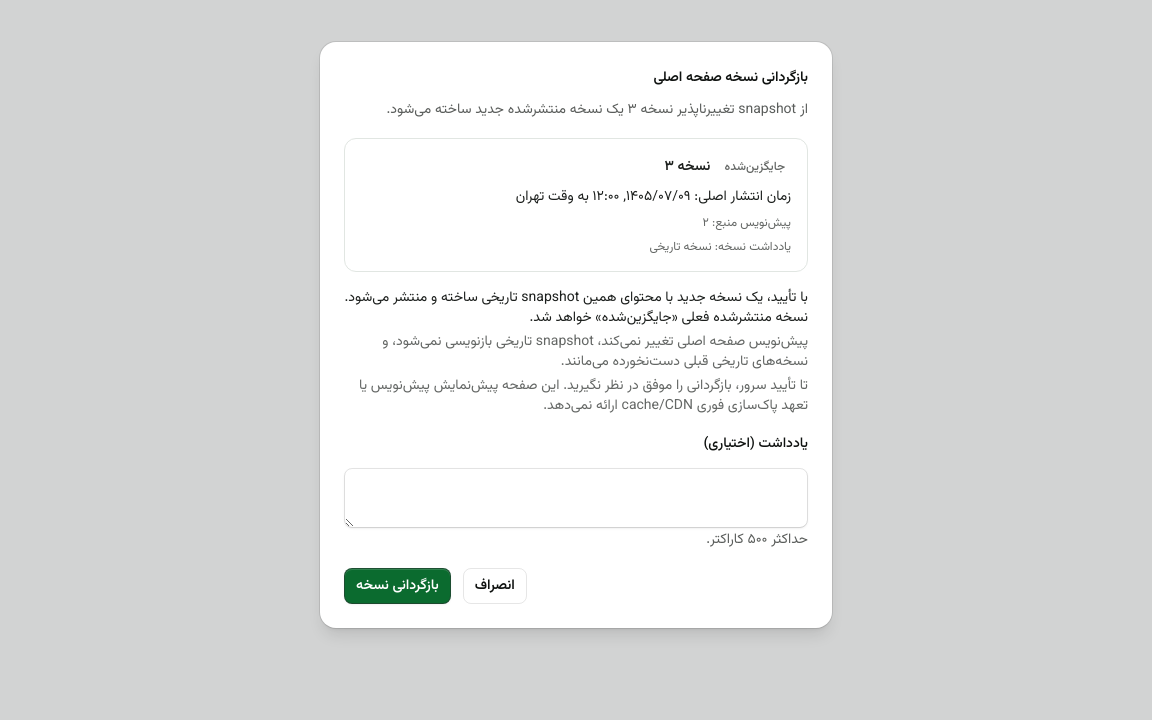
Test: HomepagePublicationRollbackDialog (SS-281) › shows ambiguous failures without retrying or refreshing falsely
Click the button "بازگردانی نسخه": (397, 586) [344,568,451,604]
(page scrolled)
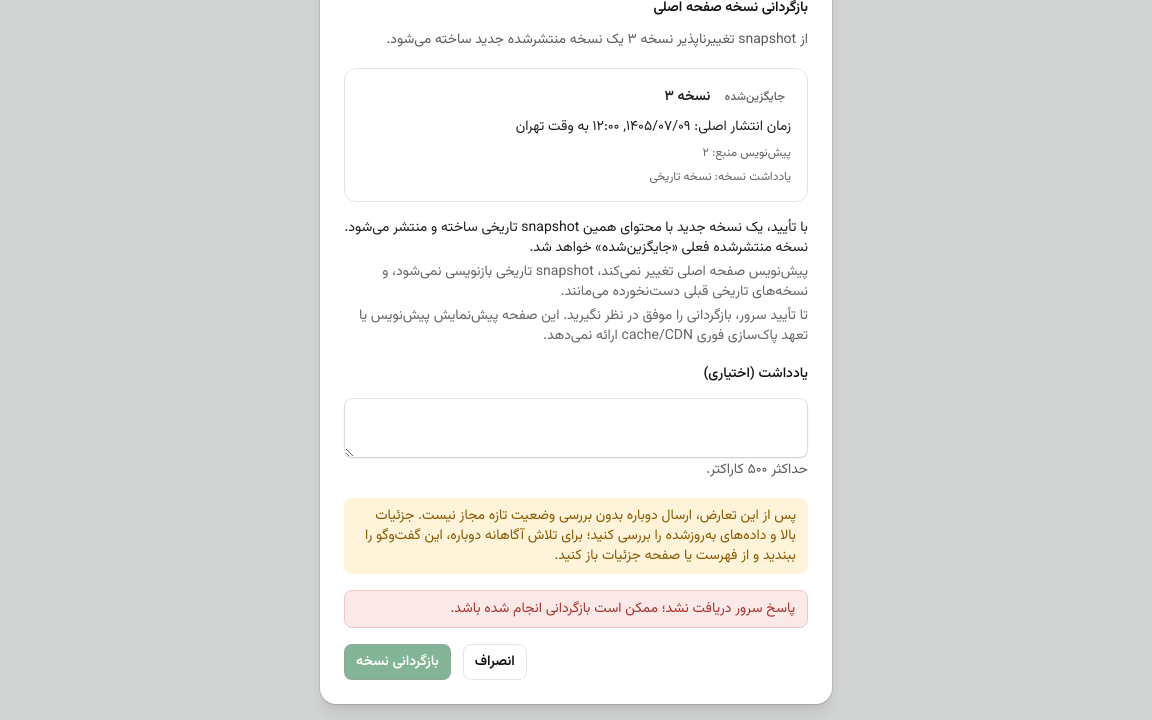
expect the button "بازگردانی نسخه" is disabled: met, box [344,644,451,680]
